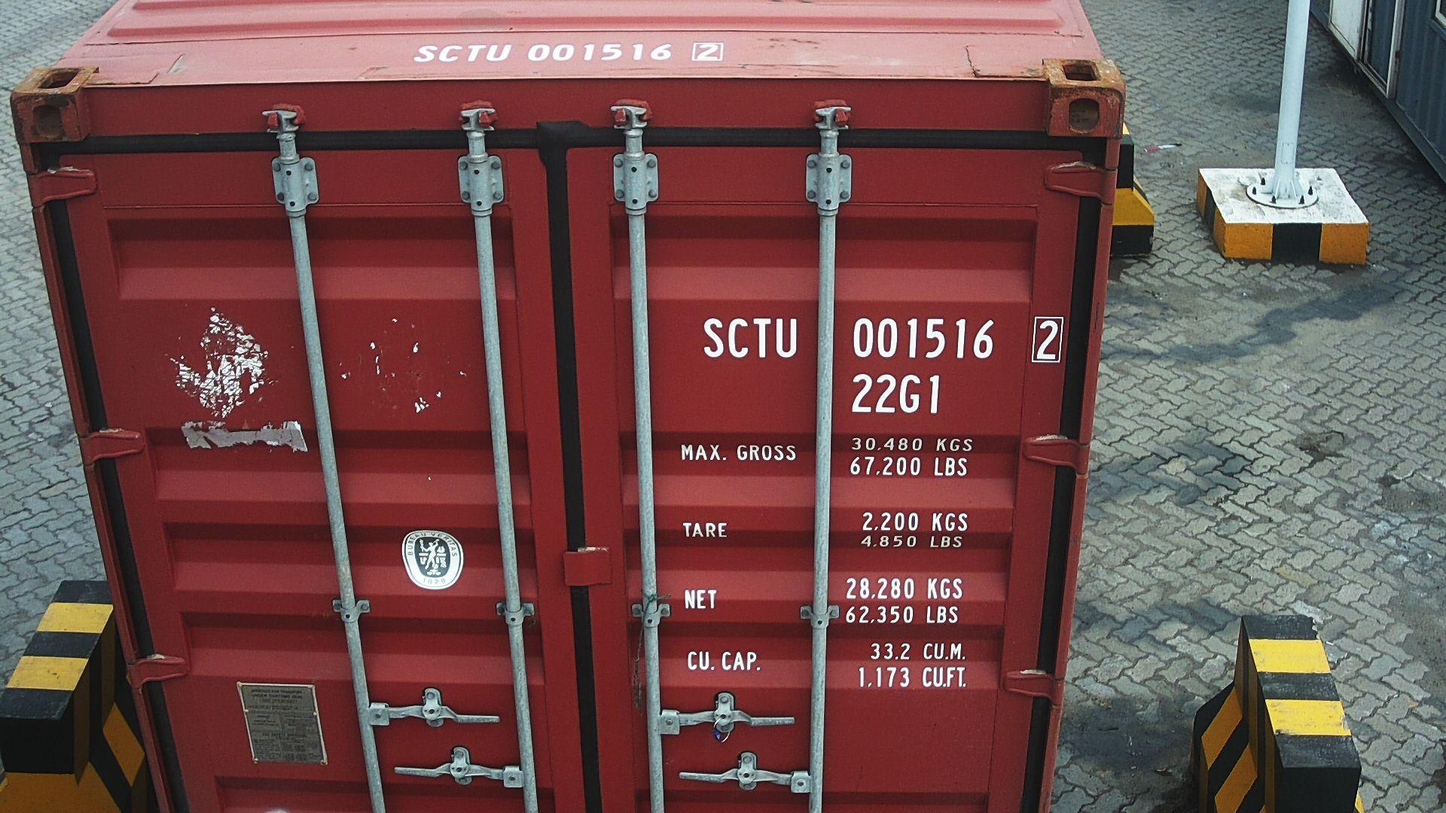container-numbers: (695, 312, 1071, 367), (407, 36, 735, 64), (846, 372, 944, 420)
